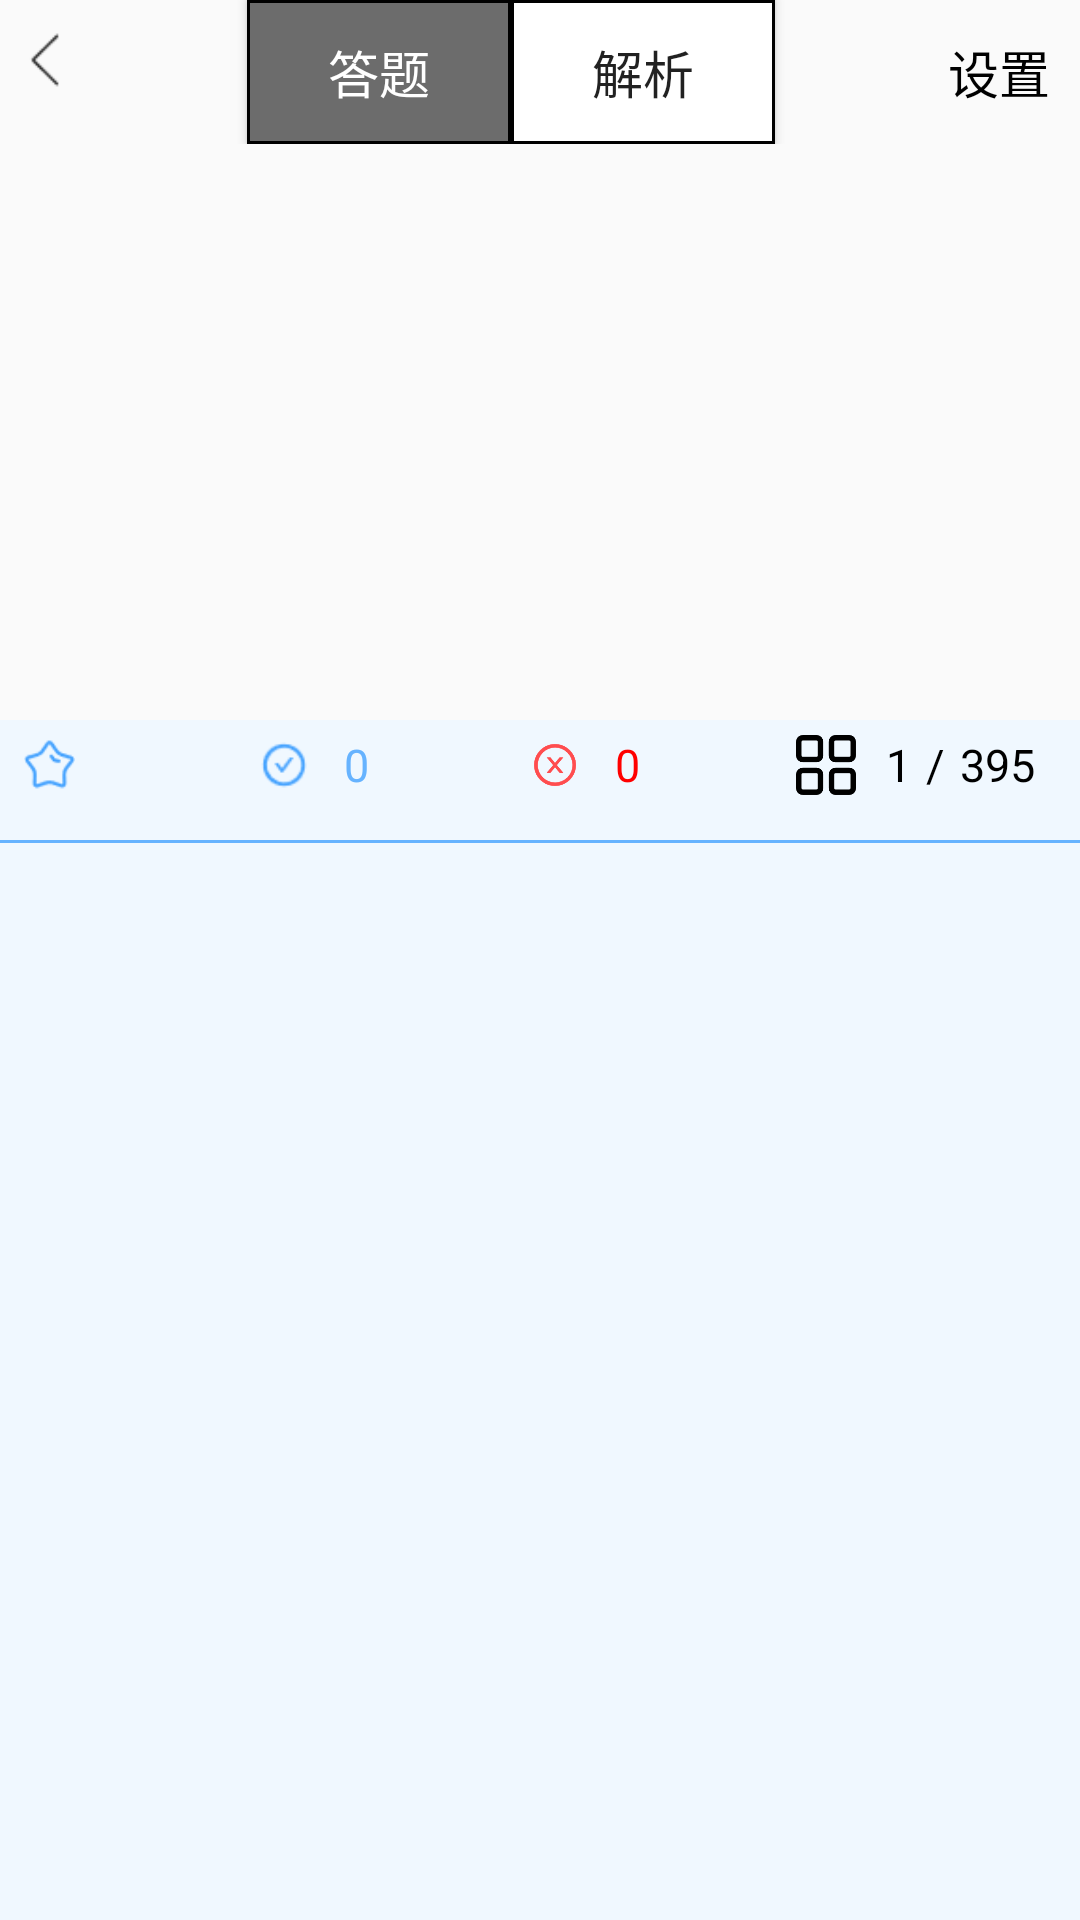

Icon bounding boxes for this 1080 × 1920 phone screenshot, format (x1, y1, x2, y2):
if cuowu: (534, 744, 576, 786)
if fanhui: (31, 33, 59, 86)
if liebiao: (796, 735, 856, 795)
if shoucangjia: (24, 740, 75, 789)
if zhengque: (263, 743, 306, 787)
